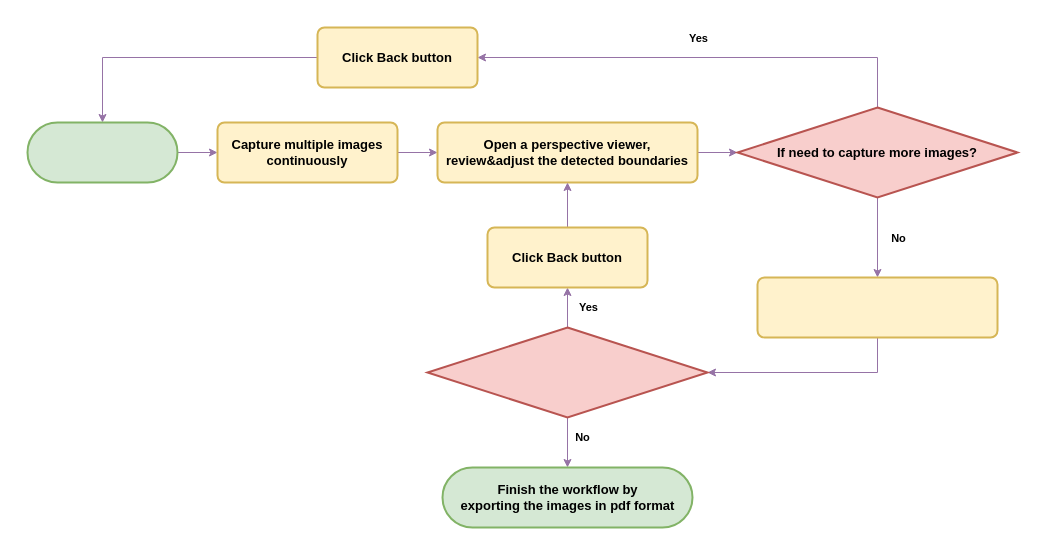
Some shapes in this 1044 by 554 pixel diagram are drawn without their labels. Here are the shapes that lost their labels. From the top down, the centre of each, then its label:
point (102, 152): Open a capture viewer
point (877, 307): Open an edit viewer, review&edit the detected images
point (567, 372): If need to adjust the boundaries?
